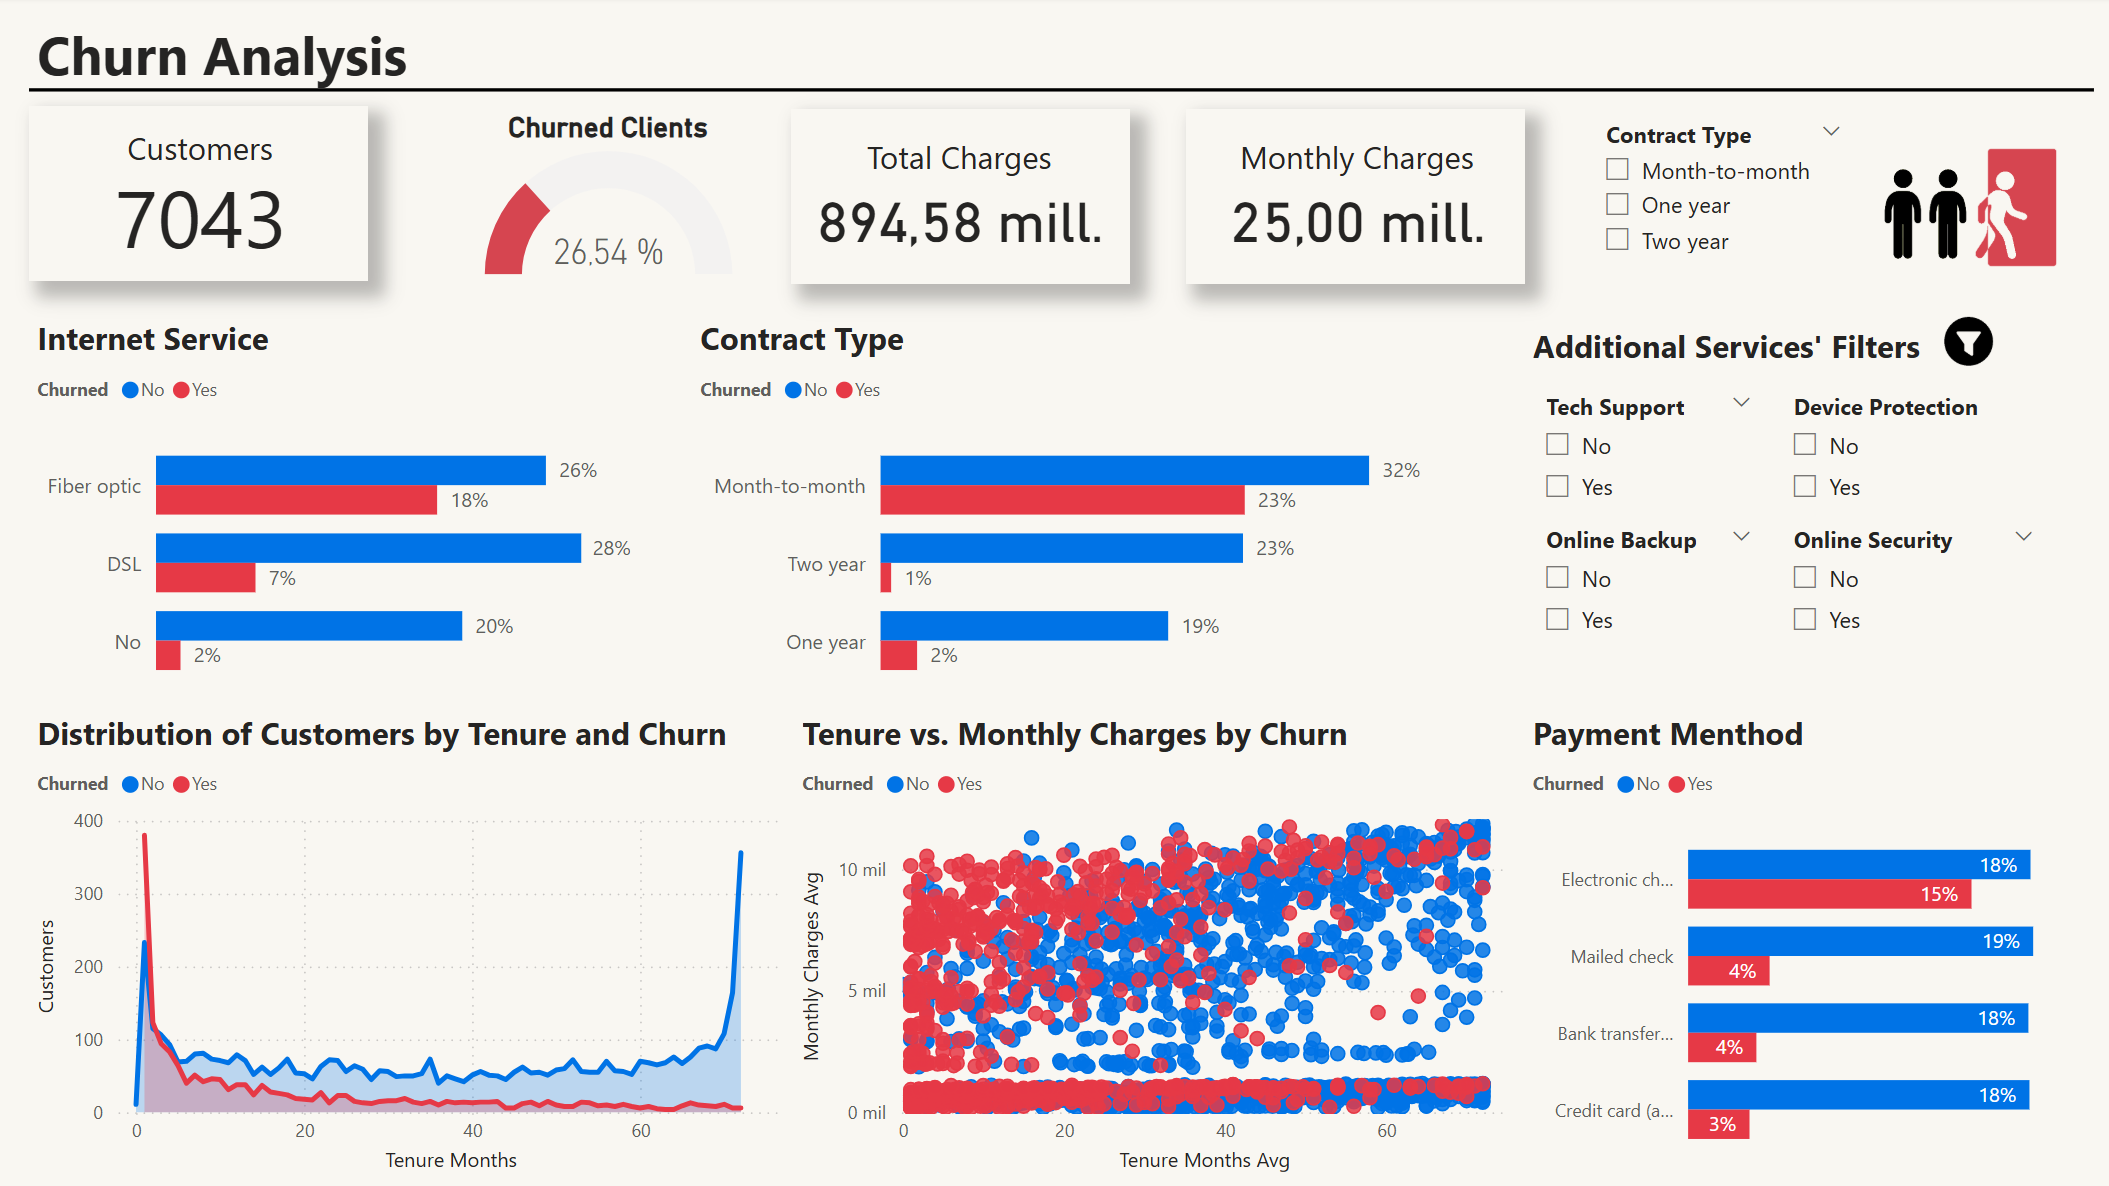

This screenshot's page, from the dashboard's own definition file:
{"tool":"powerbi","page":{"name":"Churn Analysis","canvas":[1280,720],"ordinal":0},"visuals":[{"type":"card","title":"Customers","fields":{"Values":["CountNonNull(clean_customerChurn.Churn Label)"]},"box":[50,78.8,146.2,81.2],"z":0},{"type":"gauge","title":"Churned Clients","fields":{"Y":["clean_customerChurn.PctChurned"]},"box":[257.5,68.8,220,103.8],"z":1000},{"type":"clusteredBarChart","title":"Internet Service","fields":{"Y":["CountNonNull(clean_customerChurn.Internet Service)"],"Series":["clean_customerChurn.Churn Label"],"Category":["clean_customerChurn.Internet Service"]},"box":[20,192.5,366.2,237.5],"z":2000},{"type":"clusteredBarChart","title":"Contract Type","fields":{"Category":["clean_customerChurn.Contract"],"Y":["Divide(CountNonNull(clean_customerChurn.Contract), ScopedEval(CountNonNull(clean_customerChurn.Contract), []))"],"Series":["clean_customerChurn.Churn Label"]},"box":[418.8,192.5,442.5,237.5],"z":3000},{"type":"clusteredBarChart","title":"Payment Menthod","fields":{"Category":["clean_customerChurn.Payment Method"],"Y":["CountNonNull(clean_customerChurn.Payment Method)"],"Series":["clean_customerChurn.Churn Label"]},"box":[918.9,429.9,339.5,281.6],"z":4000},{"type":"areaChart","title":"Distribution of Customers by Tenure and Churn","fields":{"Category":["clean_customerChurn.Tenure Months"],"Series":["clean_customerChurn.Churn Label"],"Y":["CountNonNull(clean_customerChurn.Churn Label)"]},"box":[19.7,429.9,457.7,281.6],"z":5000},{"type":"scatterChart","title":"Tenure vs. Monthly Charges by Churn","fields":{"Y":["Avg(clean_customerChurn.Monthly Charges)"],"X":["Avg(clean_customerChurn.Tenure Months)"],"Series":["clean_customerChurn.Churn Label"],"Category":["clean_customerChurn.Monthly Charges"]},"box":[479.7,429.9,439.2,281.6],"z":6000},{"type":"slicer","fields":{"Values":["clean_customerChurn.Contract"]},"box":[955,68.8,166.2,105],"z":7000},{"type":"card","title":"Total Charges","fields":{"Values":["Sum(clean_customerChurn.Total Charges)"]},"box":[480,83.8,198.8,73.8],"z":8000},{"type":"card","title":"Monthly Charges","fields":{"Values":["Sum(clean_customerChurn.Monthly Charges)"]},"box":[732.5,83.8,170,73.8],"z":9000},{"type":"textbox","box":[19.7,7,286.2,56.8],"z":10000},{"type":"shape","box":[20,50,1241.1,13.7],"z":11000},{"type":"shape","box":[20,66.2,203.8,105],"z":12000},{"type":"shape","box":[477.5,67.5,203.8,105],"z":13000},{"type":"shape","box":[715,67.5,203.8,105],"z":14000},{"type":"slicer","fields":{"Values":["clean_customerChurn.Tech Support"]},"box":[918.9,231.7,148.3,80],"z":16000},{"type":"slicer","fields":{"Values":["clean_customerChurn.Device Protection"]},"box":[1067.2,231.7,169.2,80],"z":17000},{"type":"slicer","fields":{"Values":["clean_customerChurn.Online Backup"]},"box":[918.9,311.7,148.3,80],"z":18000},{"type":"slicer","fields":{"Values":["clean_customerChurn.Online Security"]},"box":[1067.2,311.7,169.2,80],"z":19000},{"type":"textbox","box":[918.9,192.3,253.8,34.8],"z":20000},{"type":"image","box":[1163.4,187.7,45.2,39.4],"z":20001},{"type":"image","box":[1122.8,56.8,135.6,135.6],"z":20002}]}

Visuals, with their boxes in screenshot pixels (x1, y1, x2, y2), scaled from the page's 1280x720 canvas onto the 2109x1186 screenshot:
"Customers" card: select_region(82, 130, 323, 264)
"Churned Clients" gauge: select_region(424, 113, 787, 284)
"Internet Service" clusteredBarChart: select_region(33, 317, 636, 708)
"Contract Type" clusteredBarChart: select_region(690, 317, 1419, 708)
"Payment Menthod" clusteredBarChart: select_region(1514, 708, 2073, 1172)
"Distribution of Customers by Tenure and Churn" areaChart: select_region(32, 708, 787, 1172)
"Tenure vs. Monthly Charges by Churn" scatterChart: select_region(790, 708, 1514, 1172)
slicer - clean_customerChurn.Contract: select_region(1574, 113, 1847, 286)
"Total Charges" card: select_region(791, 138, 1118, 260)
"Monthly Charges" card: select_region(1207, 138, 1487, 260)
textbox: select_region(32, 12, 504, 105)
shape: select_region(33, 82, 2078, 105)
shape: select_region(33, 109, 369, 282)
shape: select_region(787, 111, 1123, 284)
shape: select_region(1178, 111, 1514, 284)
slicer - clean_customerChurn.Tech Support: select_region(1514, 382, 1758, 513)
slicer - clean_customerChurn.Device Protection: select_region(1758, 382, 2037, 513)
slicer - clean_customerChurn.Online Backup: select_region(1514, 513, 1758, 645)
slicer - clean_customerChurn.Online Security: select_region(1758, 513, 2037, 645)
textbox: select_region(1514, 317, 1932, 374)
image: select_region(1917, 309, 1991, 374)
image: select_region(1850, 94, 2073, 317)
